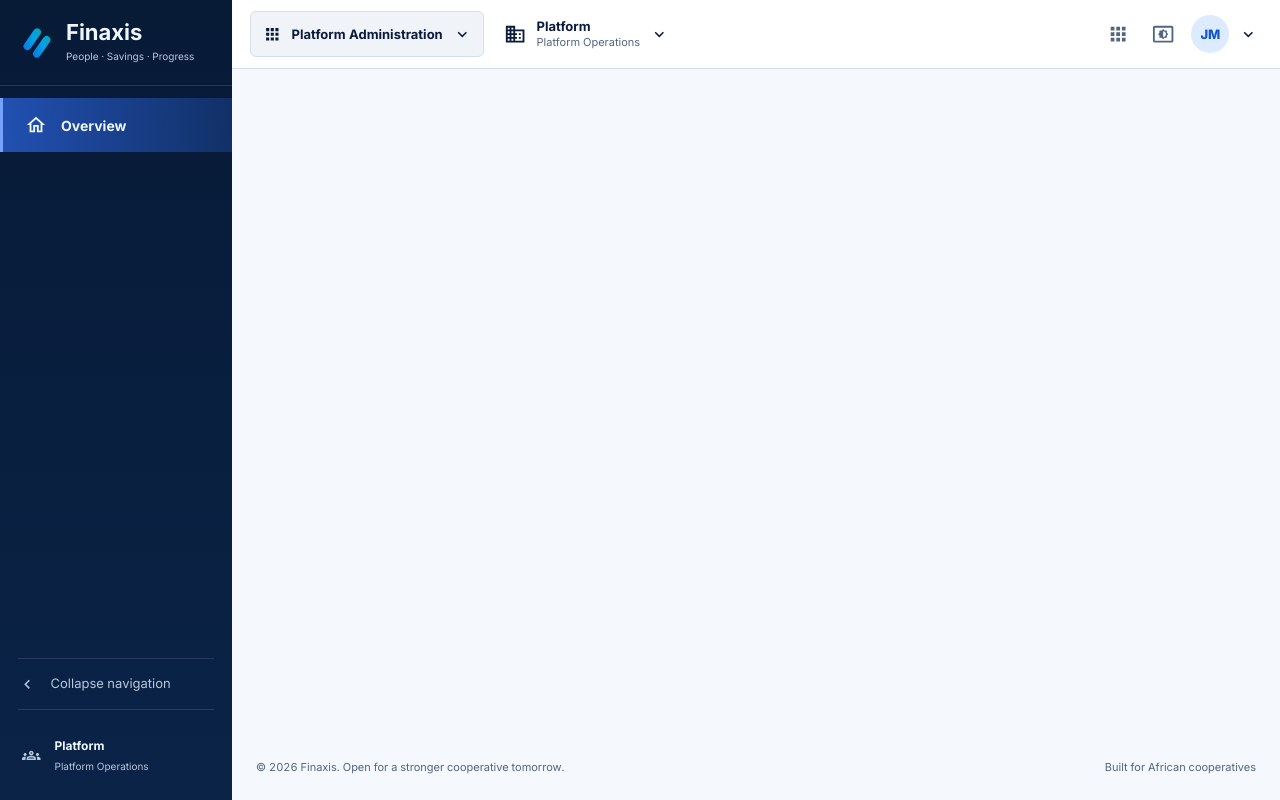
Scenario: AppShell › persists the collapse preference in a cookie
Click the button "Collapse navigation": (116, 684) [18,658,214,710]
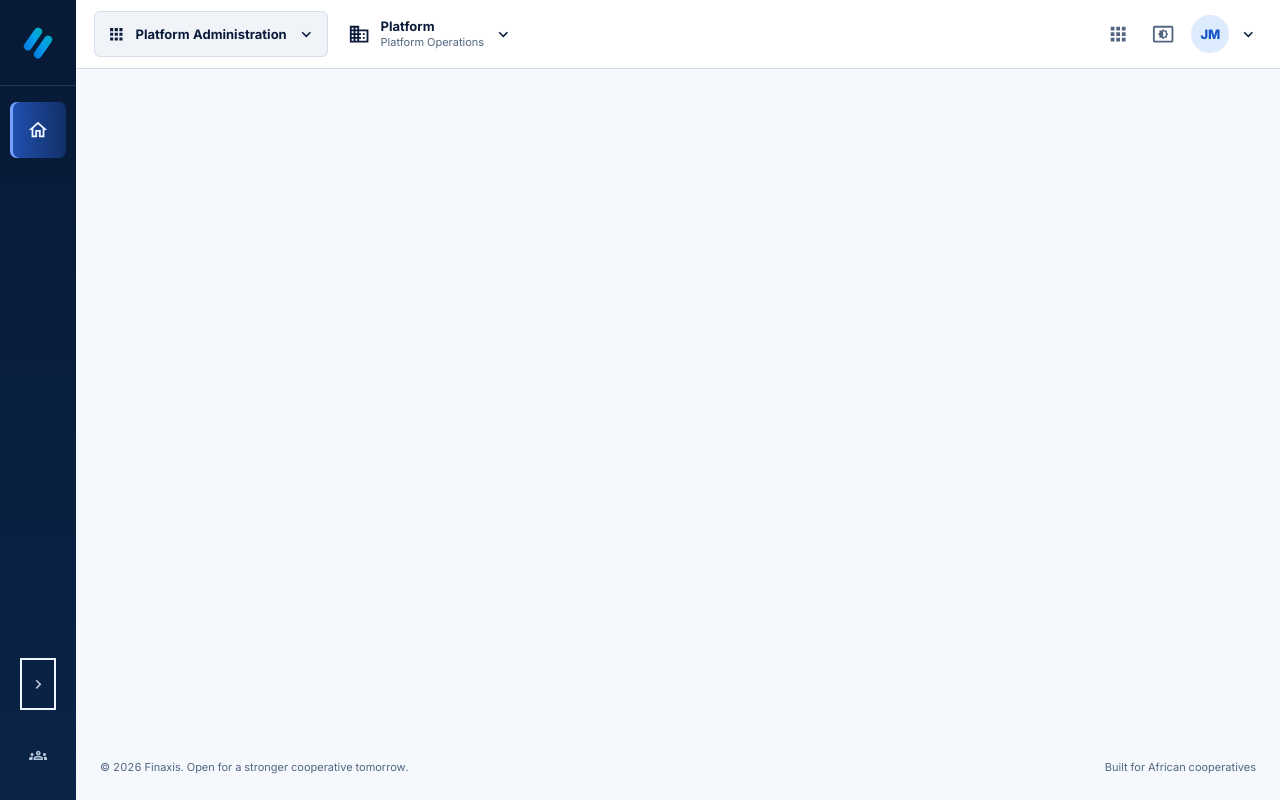
Check: the button named "Expand navigation" is shown, box [20,658,56,710]
